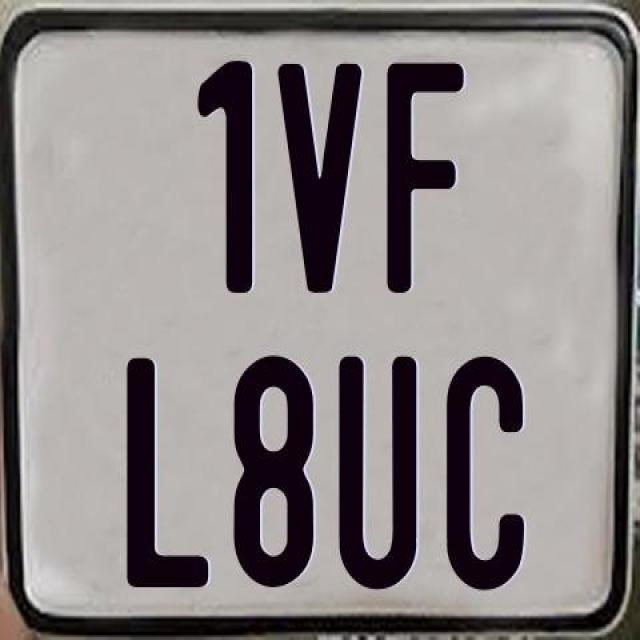1: (195, 58, 258, 298)
8: (230, 352, 318, 589)
C: (445, 354, 531, 596)
F: (386, 59, 466, 290)
L: (124, 354, 205, 586)
U: (336, 356, 416, 594)
V: (274, 59, 362, 296)
